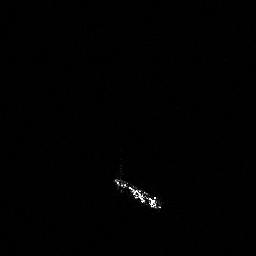ship: (112, 178, 159, 206)
